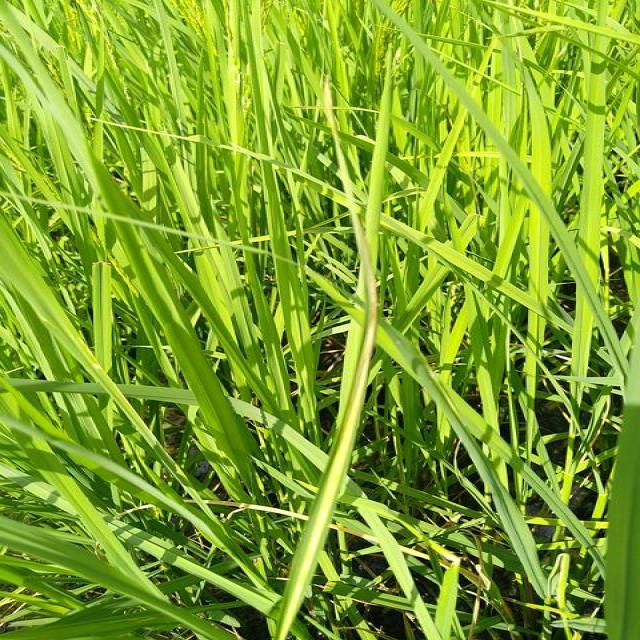Leaf Blight: (277, 81, 377, 639)
